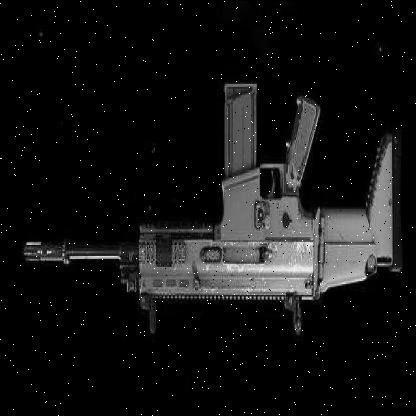rifle: (10, 59, 410, 370)
